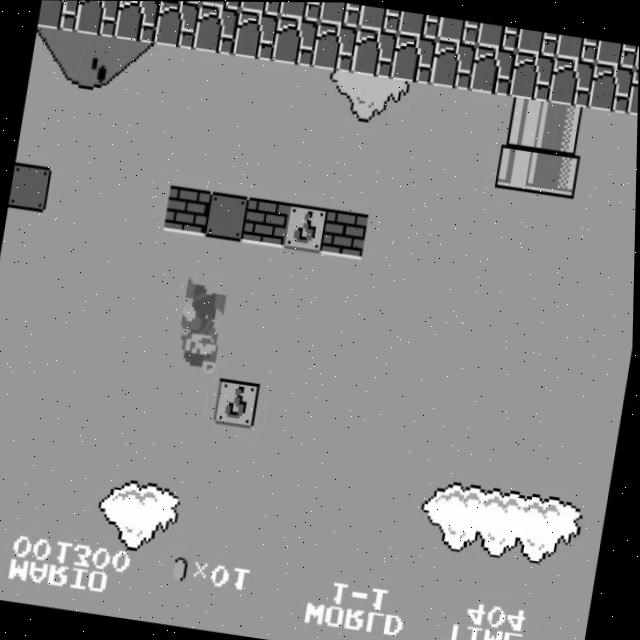0- big_mario: (172, 277, 230, 376)
1- brick_block: (243, 196, 291, 248), (322, 208, 370, 260), (164, 185, 212, 236)
13- mystery_block: (215, 378, 262, 429), (283, 203, 330, 254)
14- pipe: (501, 96, 549, 147), (541, 102, 589, 153)
15- pipe_head: (494, 141, 542, 192), (534, 147, 582, 198)
17- undestructible_block: (311, 21, 359, 73), (509, 50, 557, 102), (232, 10, 280, 61), (272, 16, 320, 67), (351, 27, 399, 78), (390, 33, 438, 84), (430, 39, 478, 90), (469, 45, 517, 96), (548, 56, 596, 107), (193, 4, 240, 55), (588, 62, 635, 113), (153, 1, 201, 49), (113, 1, 161, 43), (74, 0, 122, 38), (37, 0, 81, 31), (476, 22, 521, 51), (397, 11, 442, 39), (555, 34, 600, 62), (358, 5, 402, 33), (437, 17, 481, 45), (516, 28, 560, 56), (595, 40, 639, 68), (318, 2, 362, 27), (279, 2, 323, 22), (239, 1, 283, 16), (627, 68, 639, 119), (200, 1, 244, 9)
3- empty_block: (203, 191, 251, 242), (9, 162, 53, 213)
